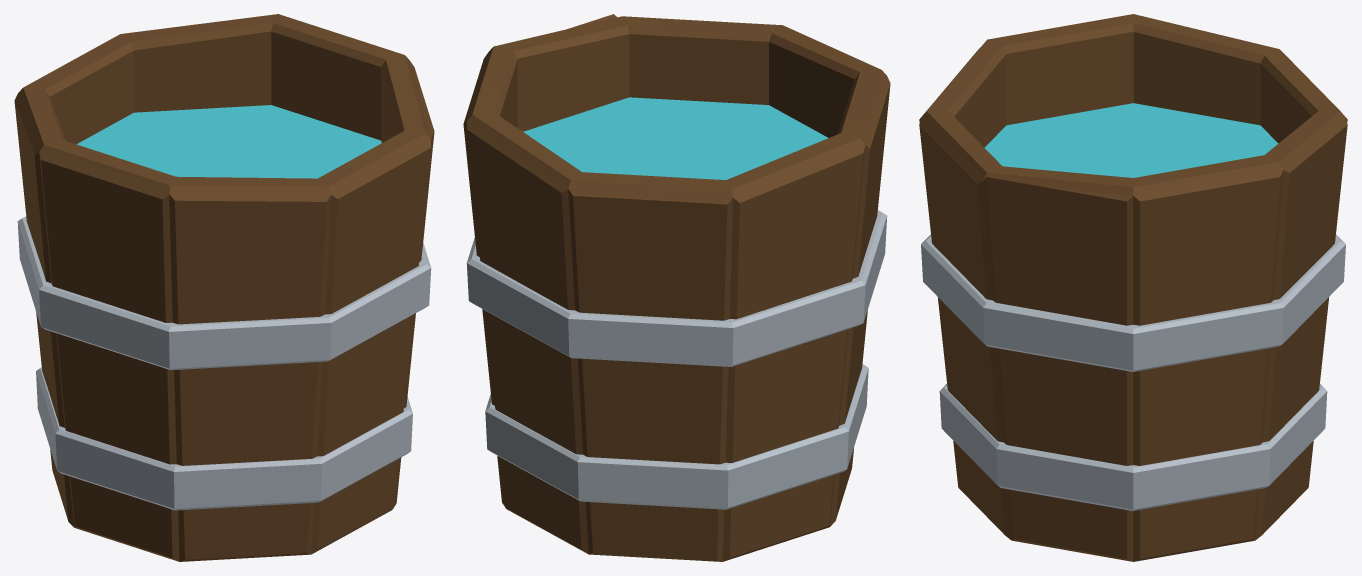
File: bucket_b.gltf
The picture shows the model from 3 angles, left to right: view 1: azimuth 30°, elevation 25°; view 2: azimuth 150°, elevation 25°; view 3: azimuth 270°, elevation 25°; orthographic projection. The views are drawn at different scales.
Parts seen in each view (by area): view 1: bucket_b001; view 2: bucket_b001; view 3: bucket_b001.
Part boxes in pixels (box(x1,y1,x2,y2)): bucket_b001: box(14, 14, 434, 561); bucket_b001: box(463, 14, 890, 561); bucket_b001: box(919, 14, 1347, 561).
Size of the model in its own units: 0.2707 by 0.2714 by 0.2707.
Materials: 1 (1 with a texture image).
